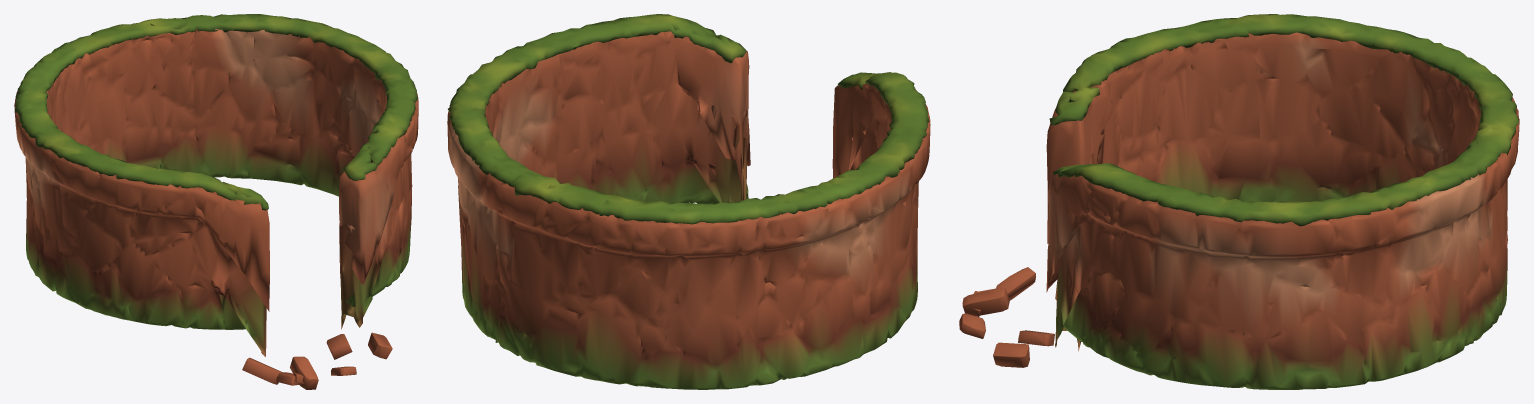
File: mire_cracked_pot.glb
3 renders of one model, left to right at view 1: azimuth 30°, elevation 25°; view 2: azimuth 150°, elevation 25°; view 3: azimuth 270°, elevation 25°, orthographic. The views are drawn at different scales.
Visible parts, largest first — view 1: mire_cracked_pot; view 2: mire_cracked_pot; view 3: mire_cracked_pot.
Boxes of the visible parts, bbox=[...] form: mire_cracked_pot: bbox=[14, 14, 418, 389]; mire_cracked_pot: bbox=[447, 14, 930, 389]; mire_cracked_pot: bbox=[959, 14, 1519, 389].
Size of the model in its own units: 34.9 by 17.9 by 40.08.
